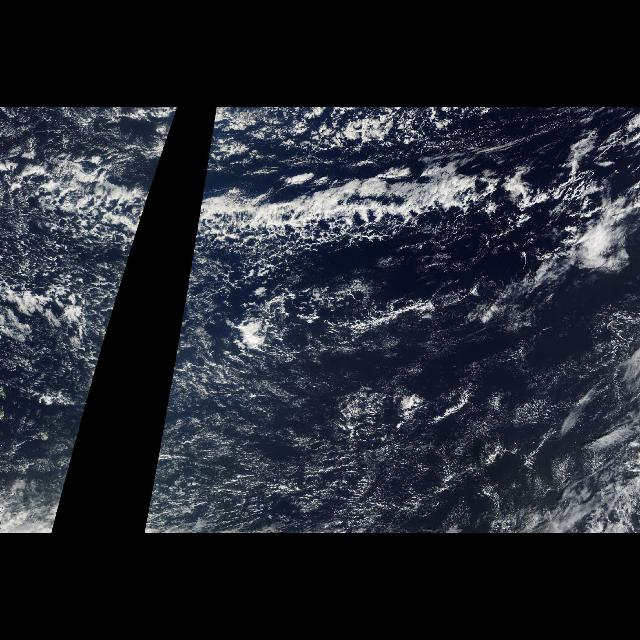Fish: (145, 107, 639, 523), (7, 107, 179, 523)
Gravel: (199, 279, 409, 406)
Sugar: (144, 352, 566, 534), (50, 352, 101, 532)
